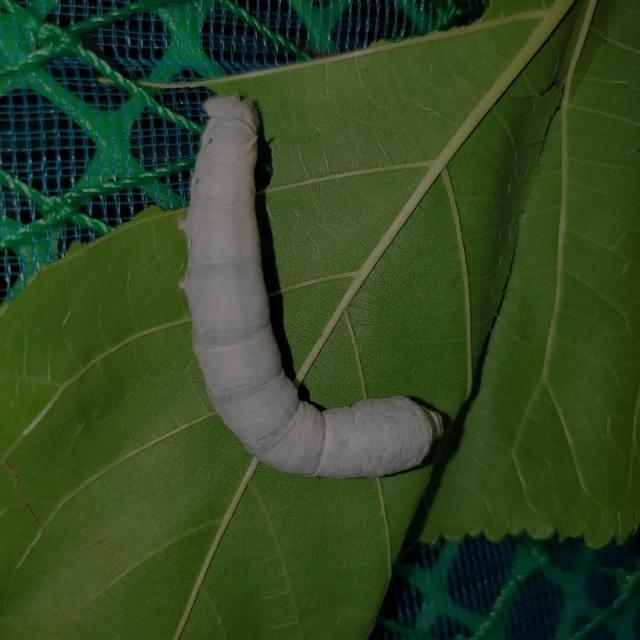Healthy: (167, 88, 456, 486)
